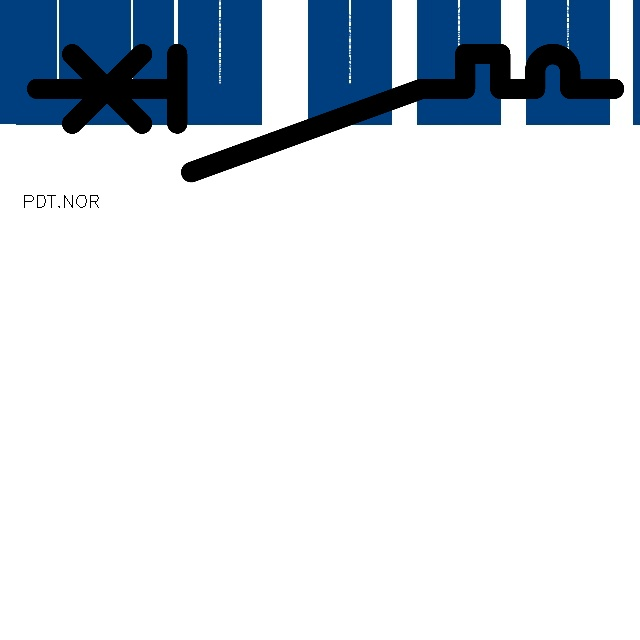interruptor_termomagnetico: (22, 39, 629, 187)
